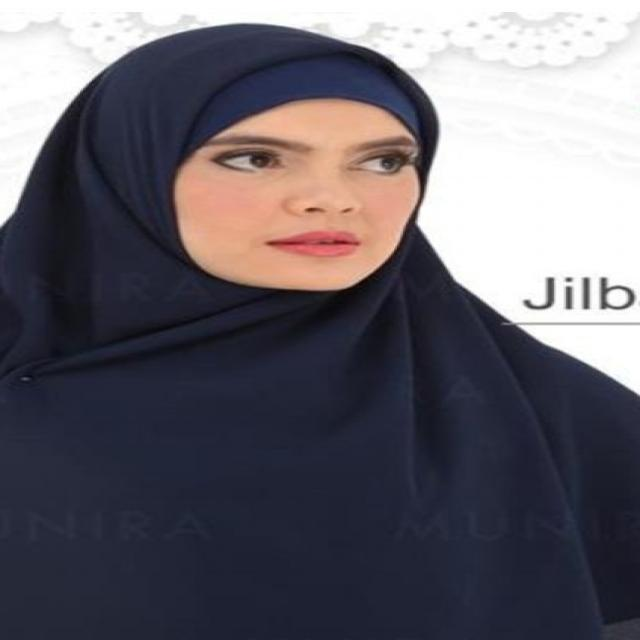head: (90, 19, 449, 299)
